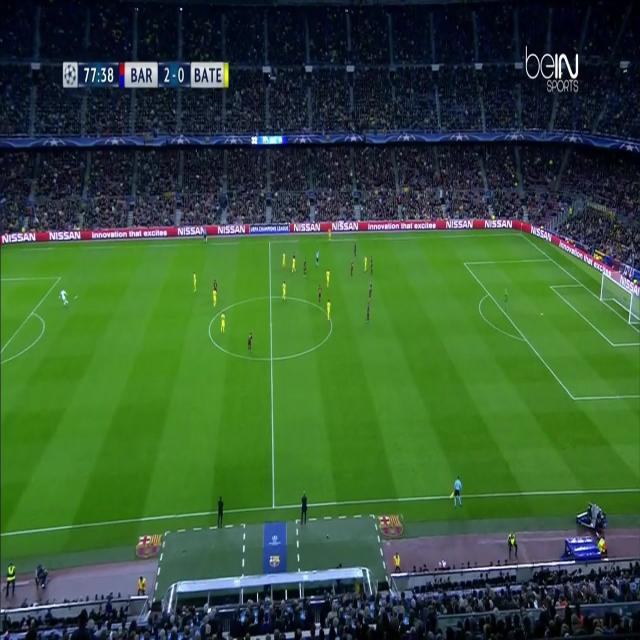Ball: (72, 290, 80, 302)
Goalkeeper: (58, 285, 70, 308), (502, 286, 510, 311)
Player: (218, 309, 227, 336), (246, 329, 254, 355), (210, 287, 218, 312), (302, 254, 309, 281), (280, 248, 288, 271), (281, 280, 288, 306), (191, 270, 198, 295), (290, 253, 298, 274), (326, 297, 332, 323), (368, 276, 374, 302), (324, 267, 331, 289), (364, 304, 371, 326), (317, 283, 323, 307), (362, 251, 368, 275), (212, 276, 219, 295), (352, 240, 358, 261), (326, 224, 332, 244), (350, 258, 355, 280), (369, 254, 374, 276)
Referee: (448, 475, 465, 508), (314, 250, 322, 268), (202, 226, 208, 243)
